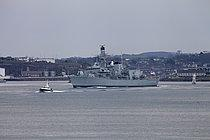MIL_Ship: (67, 53, 160, 88)
